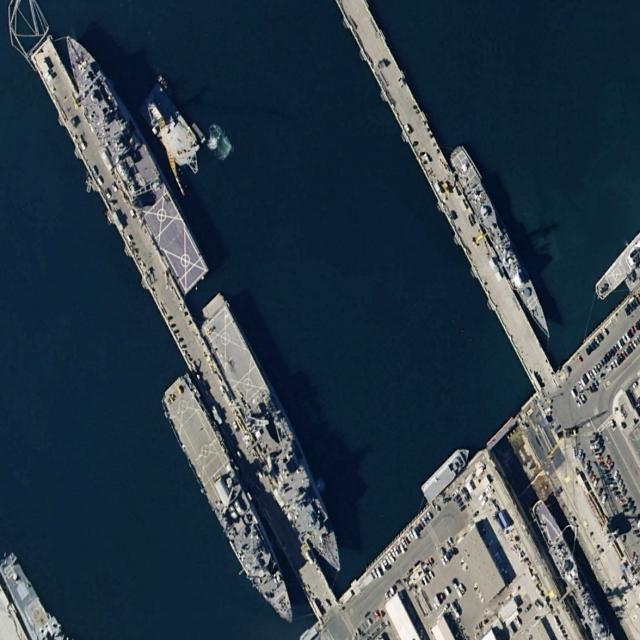Frigate: (447, 141, 557, 346)
Landing: (195, 301, 357, 588), (52, 17, 210, 299), (157, 369, 306, 638)
Other Ship: (420, 440, 473, 505)
